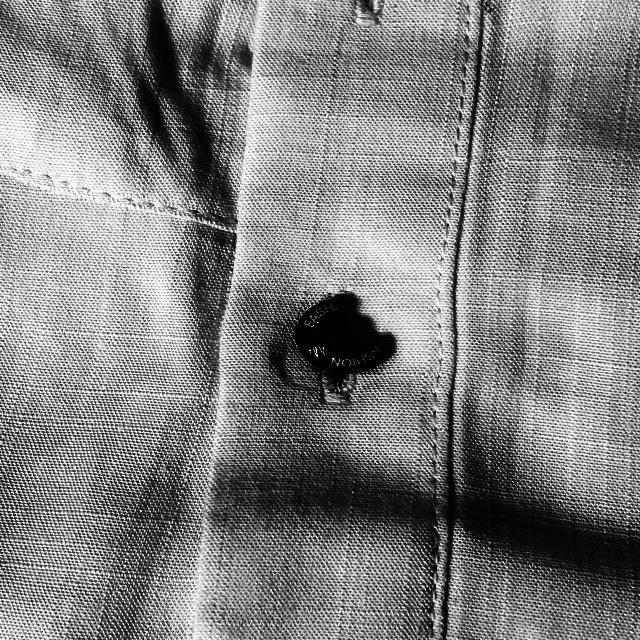Broken_button: (280, 289, 398, 389)
